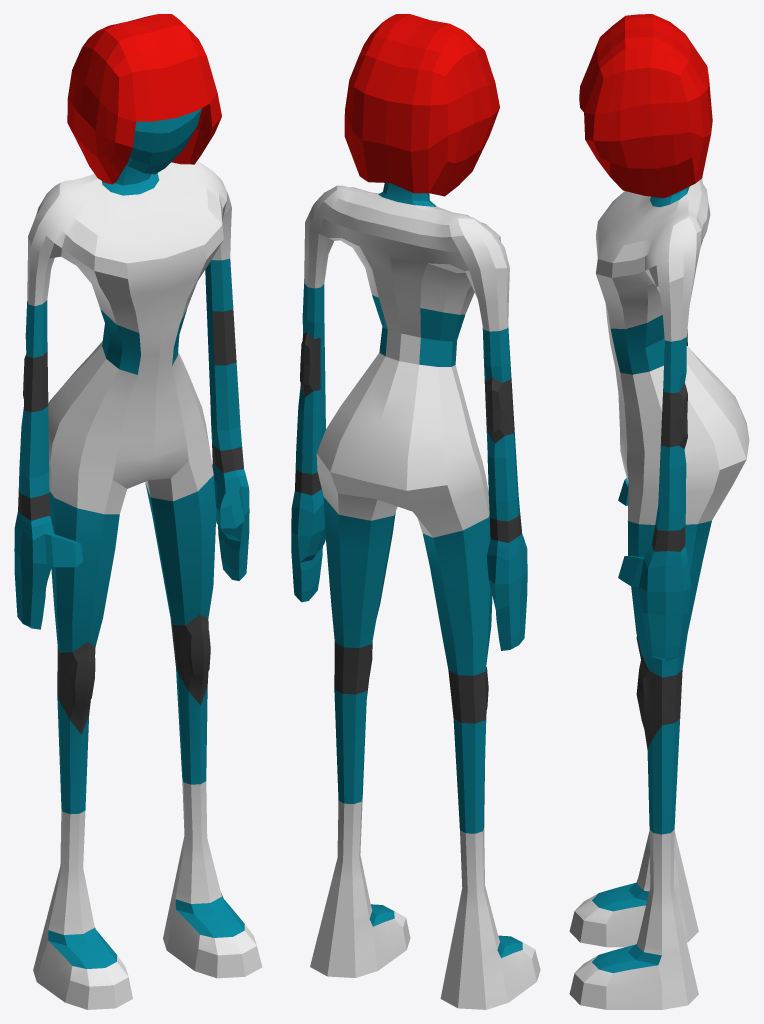
The model's file is Aliens2.fbx.
The picture shows the model from 3 angles, left to right: view 1: azimuth 30°, elevation 25°; view 2: azimuth 150°, elevation 25°; view 3: azimuth 270°, elevation 25°; orthographic projection.
Visible parts, largest first — view 1: Mulher; view 2: Mulher; view 3: Mulher.
Part boxes in pixels (box(x1,y1,x2,y2)): Mulher: box(14, 14, 262, 1009); Mulher: box(291, 14, 540, 1009); Mulher: box(569, 14, 749, 1009).
Bounding box in the file's own units: 43.84 × 177 × 30.88.
